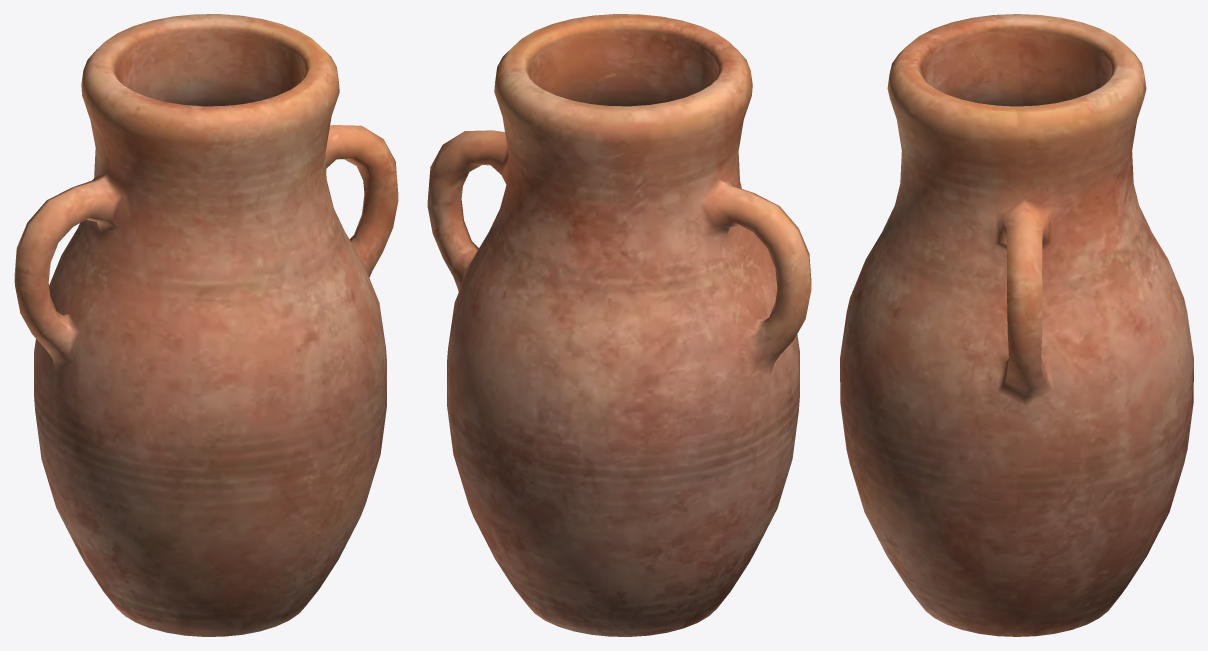
3 views of the same model, side by side, from view 1: azimuth 30°, elevation 25°; view 2: azimuth 150°, elevation 25°; view 3: azimuth 270°, elevation 25° (orthographic).
Visible parts, largest first — view 1: SM_Moon_Garou_Vase_02v1_LOD0; view 2: SM_Moon_Garou_Vase_02v1_LOD0; view 3: SM_Moon_Garou_Vase_02v1_LOD0.
Part boxes in pixels (box(x1,y1,x2,y2)): SM_Moon_Garou_Vase_02v1_LOD0: box(14, 14, 398, 636); SM_Moon_Garou_Vase_02v1_LOD0: box(427, 14, 811, 636); SM_Moon_Garou_Vase_02v1_LOD0: box(840, 14, 1193, 636).
Bounding box in the file's own units: 0.9076 × 1.21 × 0.7261.
1 material, 1 textured.
